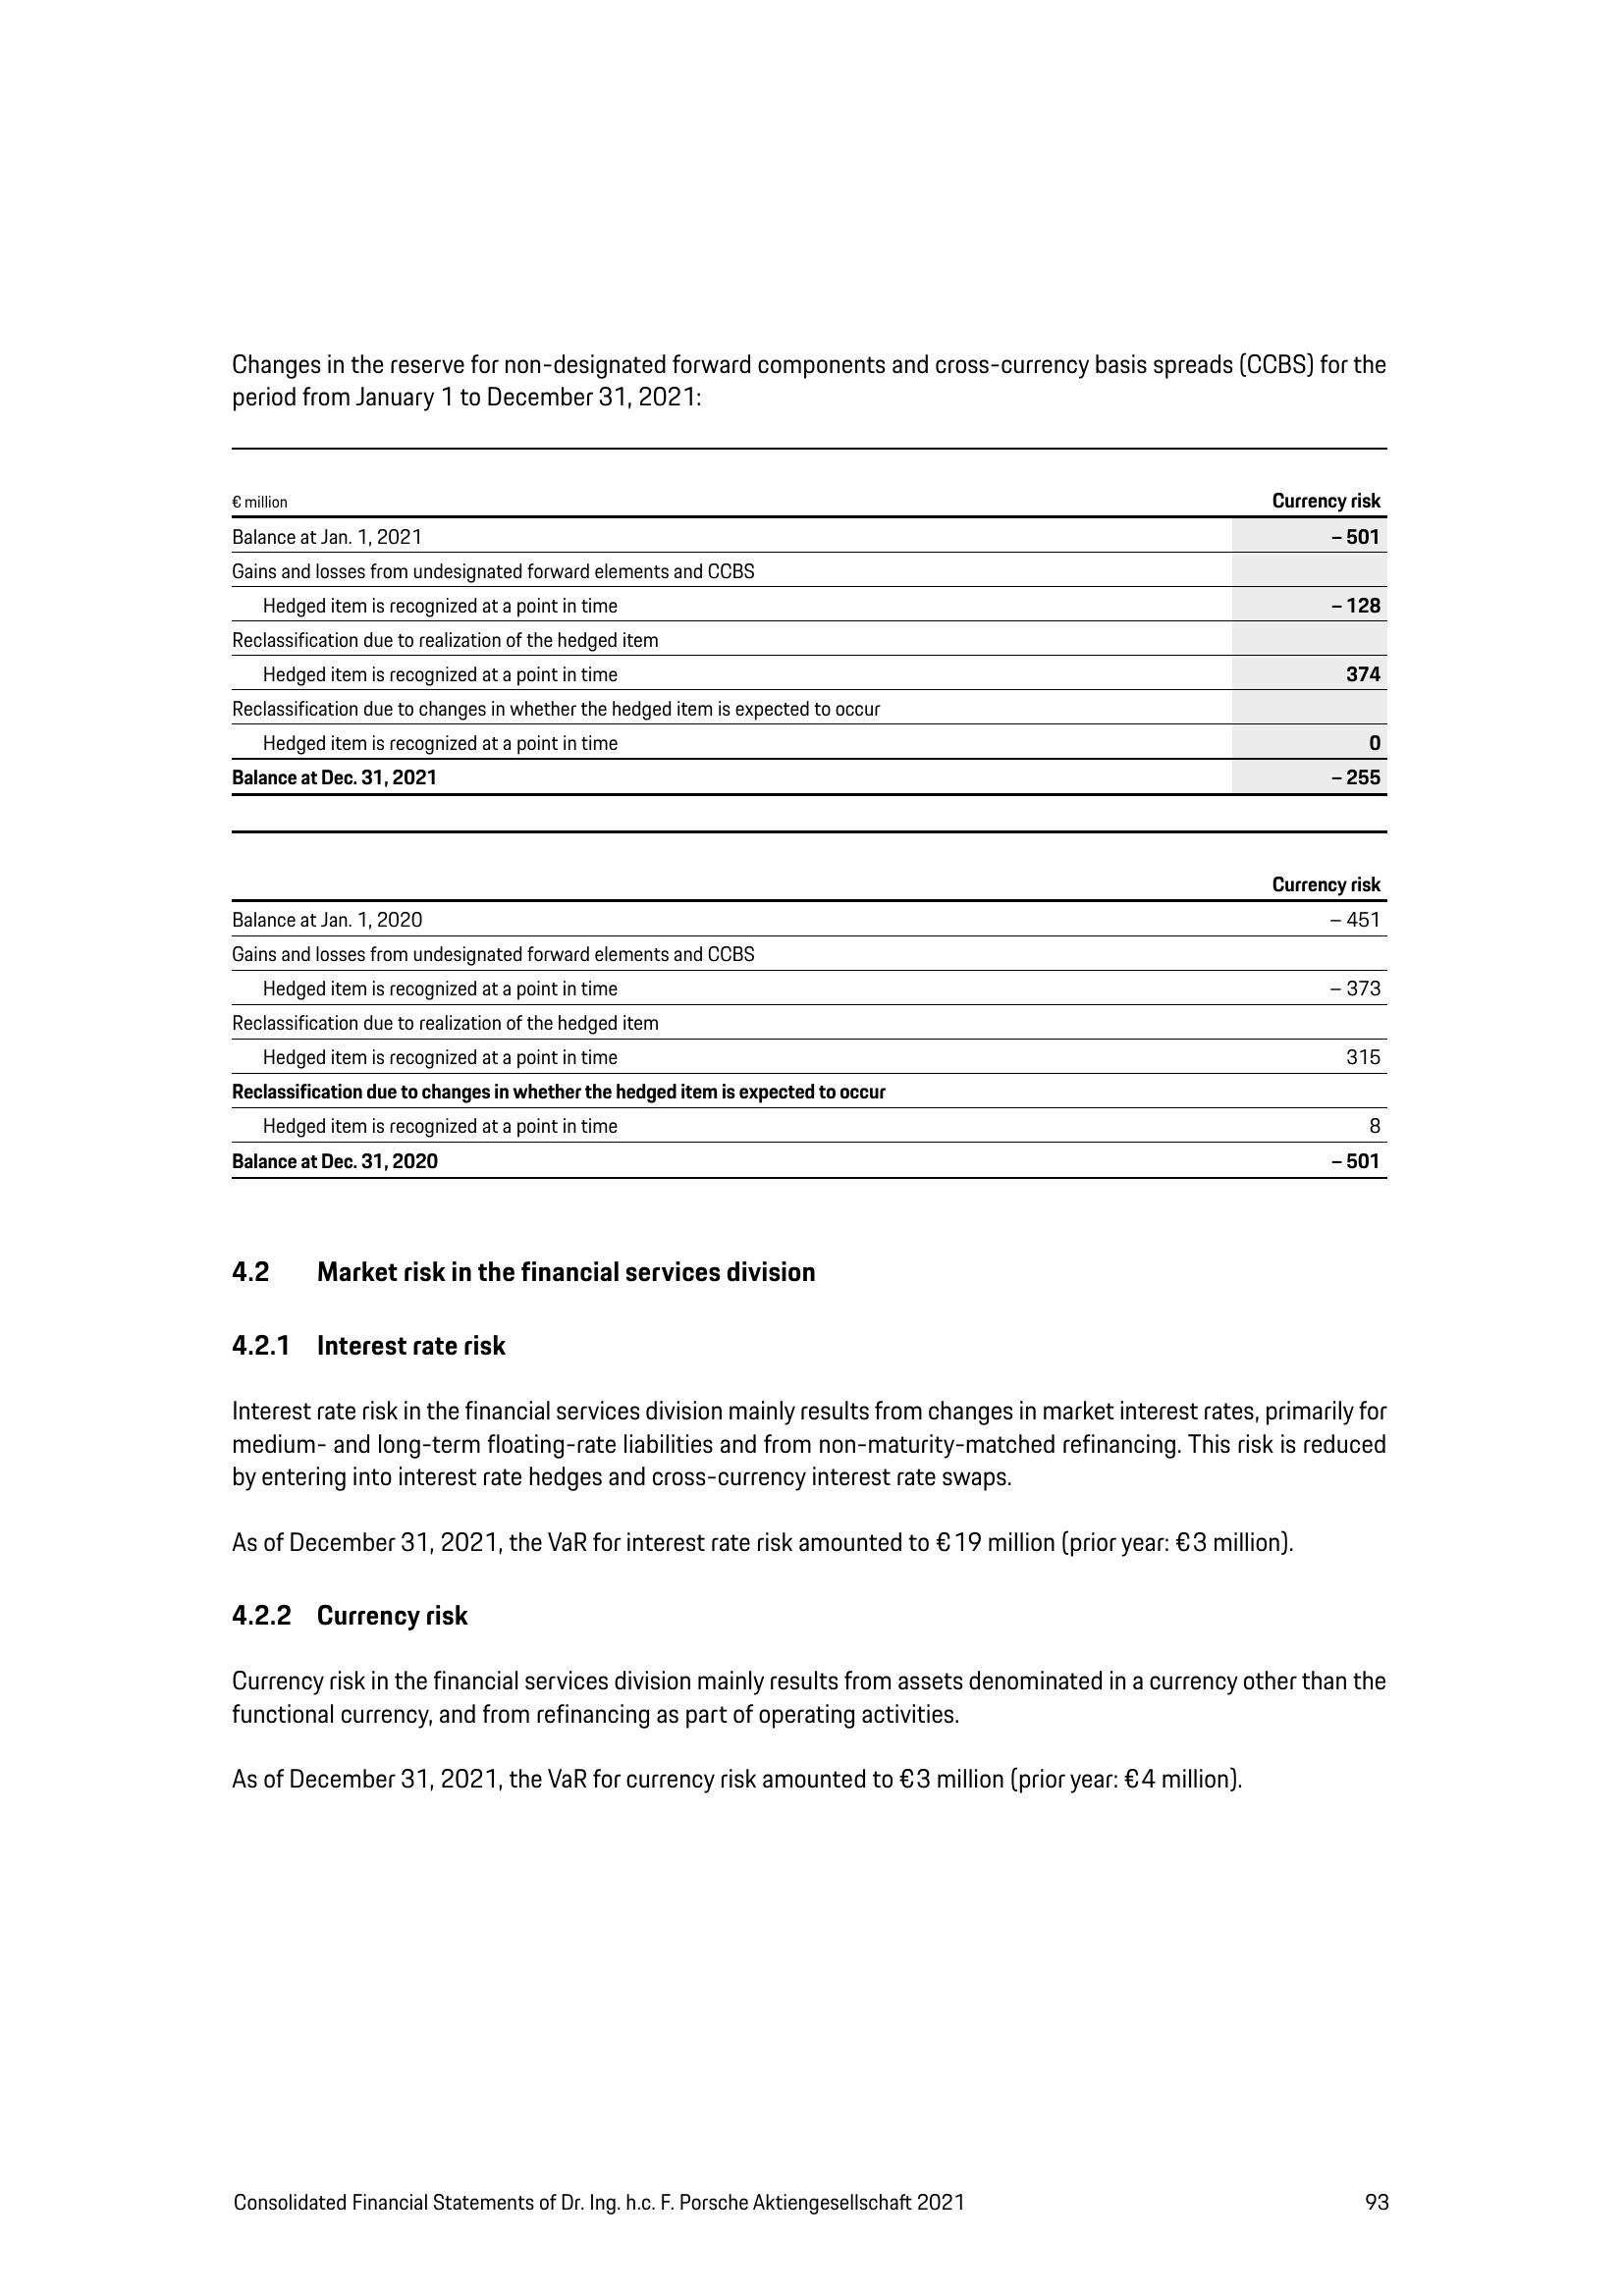Footer: (0, 2143, 1624, 2296)
Header: (0, 0, 1624, 255)
Table: (181, 430, 1399, 801), (178, 864, 1394, 1217)
